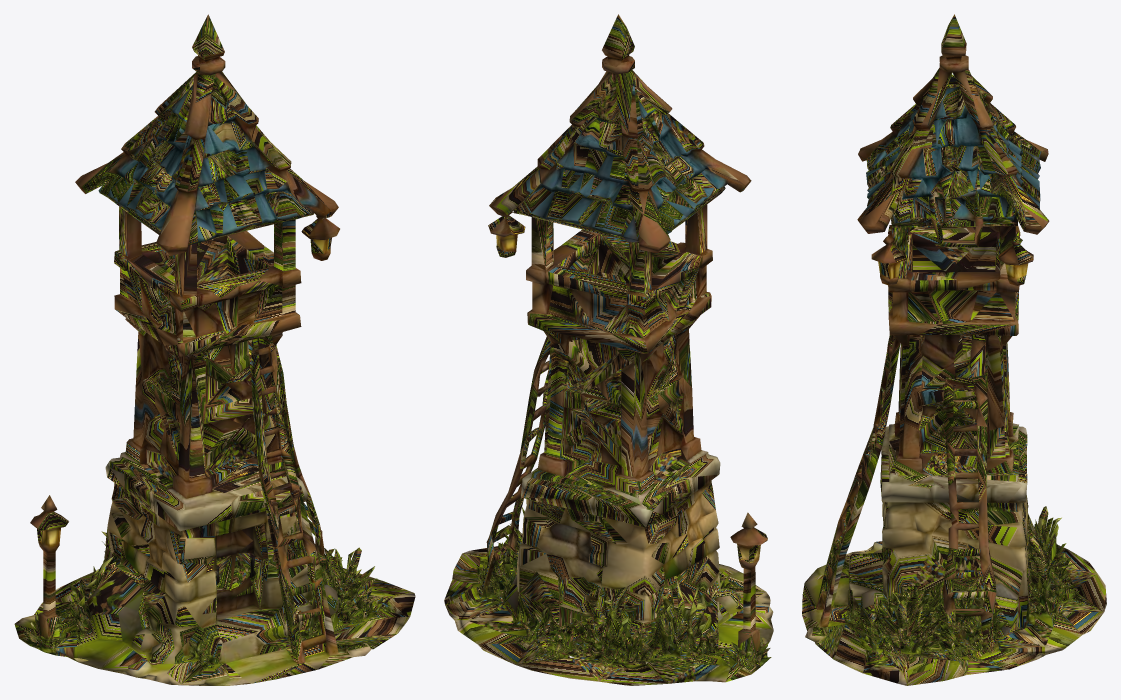
The model's file is Watchtower_T1.glb.
The picture shows the model from 3 angles, left to right: view 1: azimuth 30°, elevation 25°; view 2: azimuth 150°, elevation 25°; view 3: azimuth 270°, elevation 25°; orthographic projection. The views are drawn at different scales.
Visible parts, largest first — view 1: Watchtower_T1; view 2: Watchtower_T1; view 3: Watchtower_T1.
Part boxes in pixels (box(x1,y1,x2,y2)): Watchtower_T1: box(14, 14, 415, 685); Watchtower_T1: box(444, 14, 773, 685); Watchtower_T1: box(802, 14, 1106, 685).
Size of the model in its own units: 1.15 by 1.9 by 0.8966.
1 material, 1 textured.
